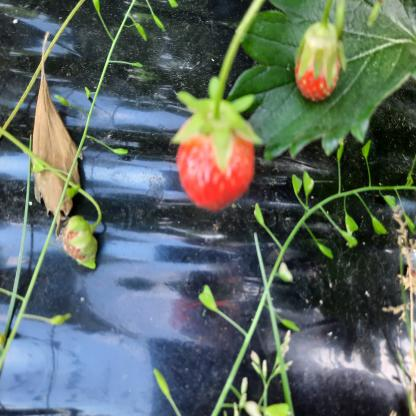ripe: (176, 113, 254, 200), (295, 34, 346, 98), (66, 216, 96, 261)
